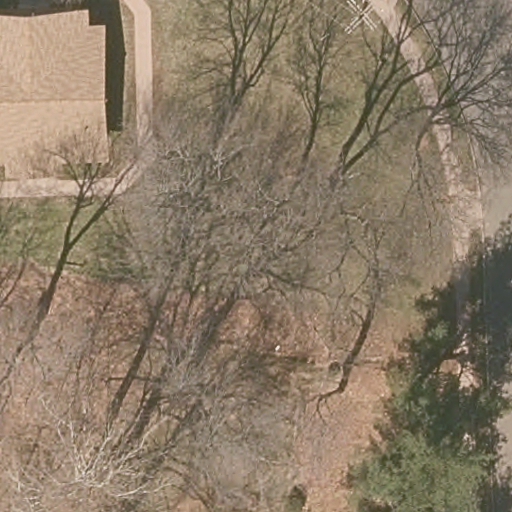DT: (341, 1, 381, 36)
